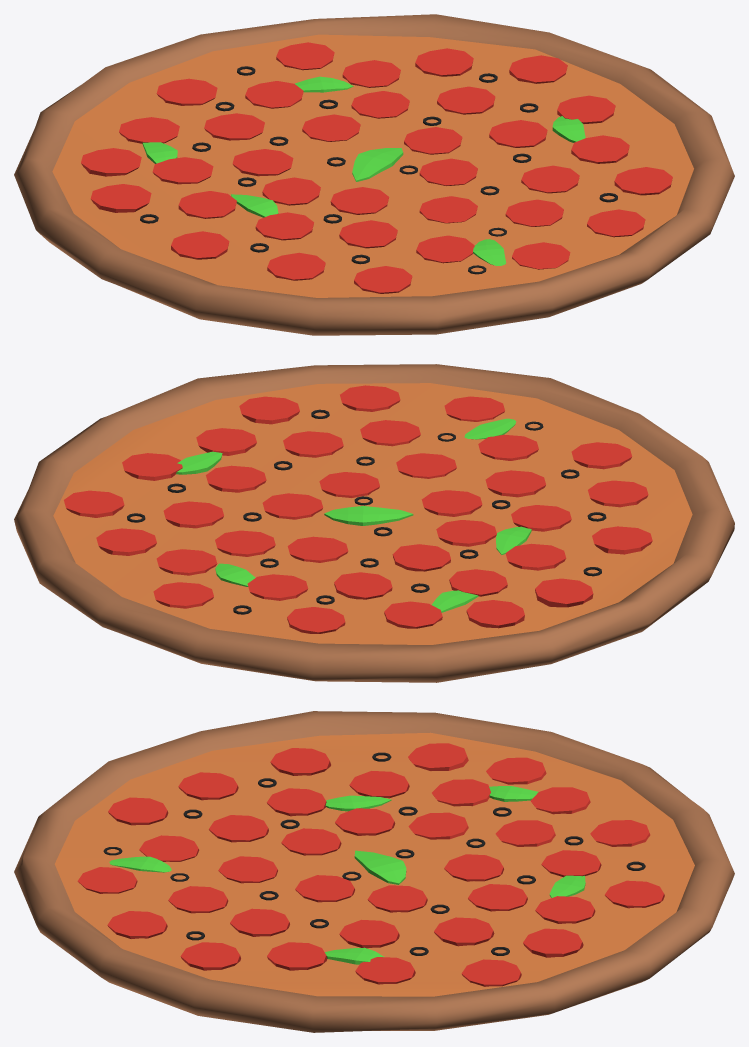
The model's file is Cheese & Ham.fbx.
The picture shows the model from 3 angles, top to bottom: view 1: azimuth 30°, elevation 25°; view 2: azimuth 150°, elevation 25°; view 3: azimuth 270°, elevation 25°; orthographic projection.
Parts seen in each view (by area): view 1: Cube.001; view 2: Cube.001; view 3: Cube.001.
Boxes of the visible parts, bbox=[...] form: Cube.001: bbox=[14, 14, 734, 335]; Cube.001: bbox=[14, 364, 734, 682]; Cube.001: bbox=[14, 711, 734, 1032].
Bounding box in the file's own units: 199 × 10.21 × 202.
